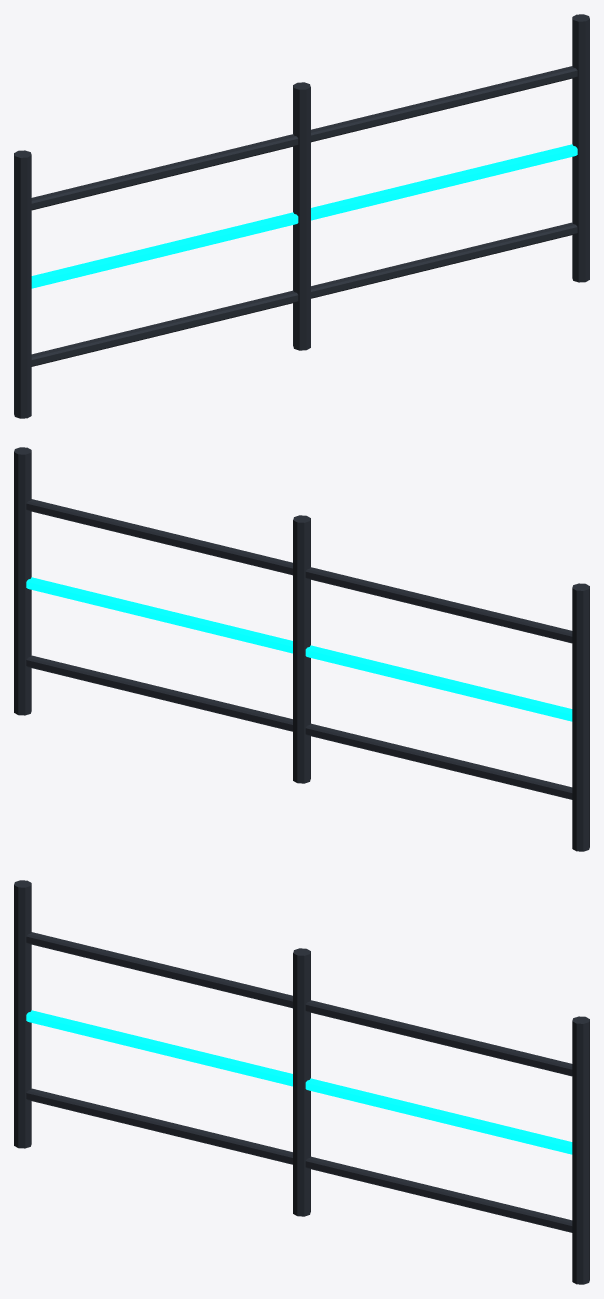
Rendered from fence_a.glb.
3 views of the same model, one above another, from view 1: azimuth 30°, elevation 25°; view 2: azimuth 150°, elevation 25°; view 3: azimuth 330°, elevation 25° (orthographic).
Visible parts, largest first — view 1: Fence_A_Rail_0, Fence_A_Rail_1, Fence_A_Rail_2, Fence_A_Post_0, Fence_A_Post_2, Fence_A_Post_1; view 2: Fence_A_Rail_0, Fence_A_Rail_1, Fence_A_Rail_2, Fence_A_Post_0, Fence_A_Post_2, Fence_A_Post_1; view 3: Fence_A_Rail_0, Fence_A_Rail_1, Fence_A_Rail_2, Fence_A_Post_2, Fence_A_Post_0, Fence_A_Post_1.
Part boxes in pixels (x1=…): Fence_A_Rail_0: x1=31, y1=222, x2=577, y2=366; Fence_A_Rail_1: x1=31, y1=144, x2=577, y2=288; Fence_A_Rail_2: x1=31, y1=66, x2=577, y2=210; Fence_A_Post_0: x1=14, y1=150, x2=31, y2=418; Fence_A_Post_2: x1=572, y1=14, x2=589, y2=282; Fence_A_Post_1: x1=293, y1=82, x2=310, y2=350; Fence_A_Rail_0: x1=26, y1=655, x2=572, y2=799; Fence_A_Rail_1: x1=26, y1=577, x2=572, y2=721; Fence_A_Rail_2: x1=26, y1=499, x2=572, y2=643; Fence_A_Post_0: x1=572, y1=583, x2=589, y2=851; Fence_A_Post_2: x1=14, y1=447, x2=31, y2=715; Fence_A_Post_1: x1=293, y1=515, x2=310, y2=783; Fence_A_Rail_0: x1=26, y1=1088, x2=572, y2=1232; Fence_A_Rail_1: x1=26, y1=1010, x2=572, y2=1154; Fence_A_Rail_2: x1=26, y1=932, x2=572, y2=1076; Fence_A_Post_2: x1=572, y1=1016, x2=589, y2=1284; Fence_A_Post_0: x1=14, y1=880, x2=31, y2=1148; Fence_A_Post_1: x1=293, y1=948, x2=310, y2=1216.
Size of the model in its own units: 5.76 by 2.5 by 0.16.
